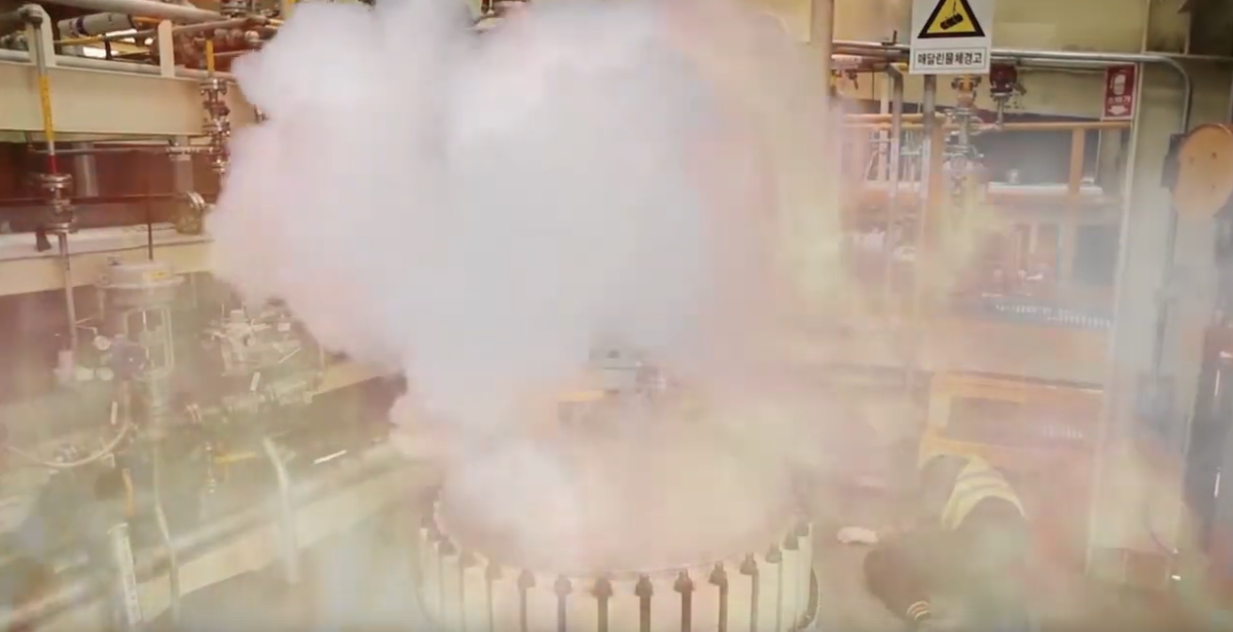smoke: (203, 1, 916, 574)
